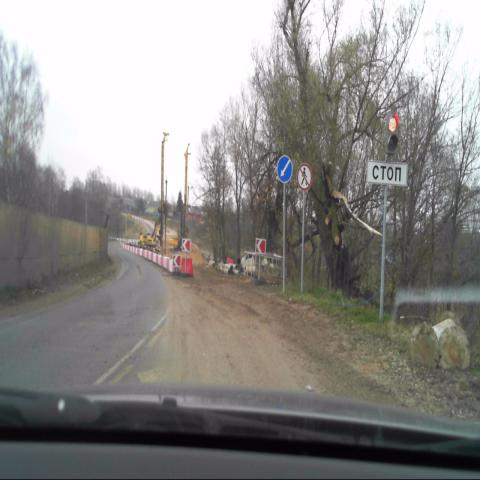3_10: (296, 162, 313, 193)
